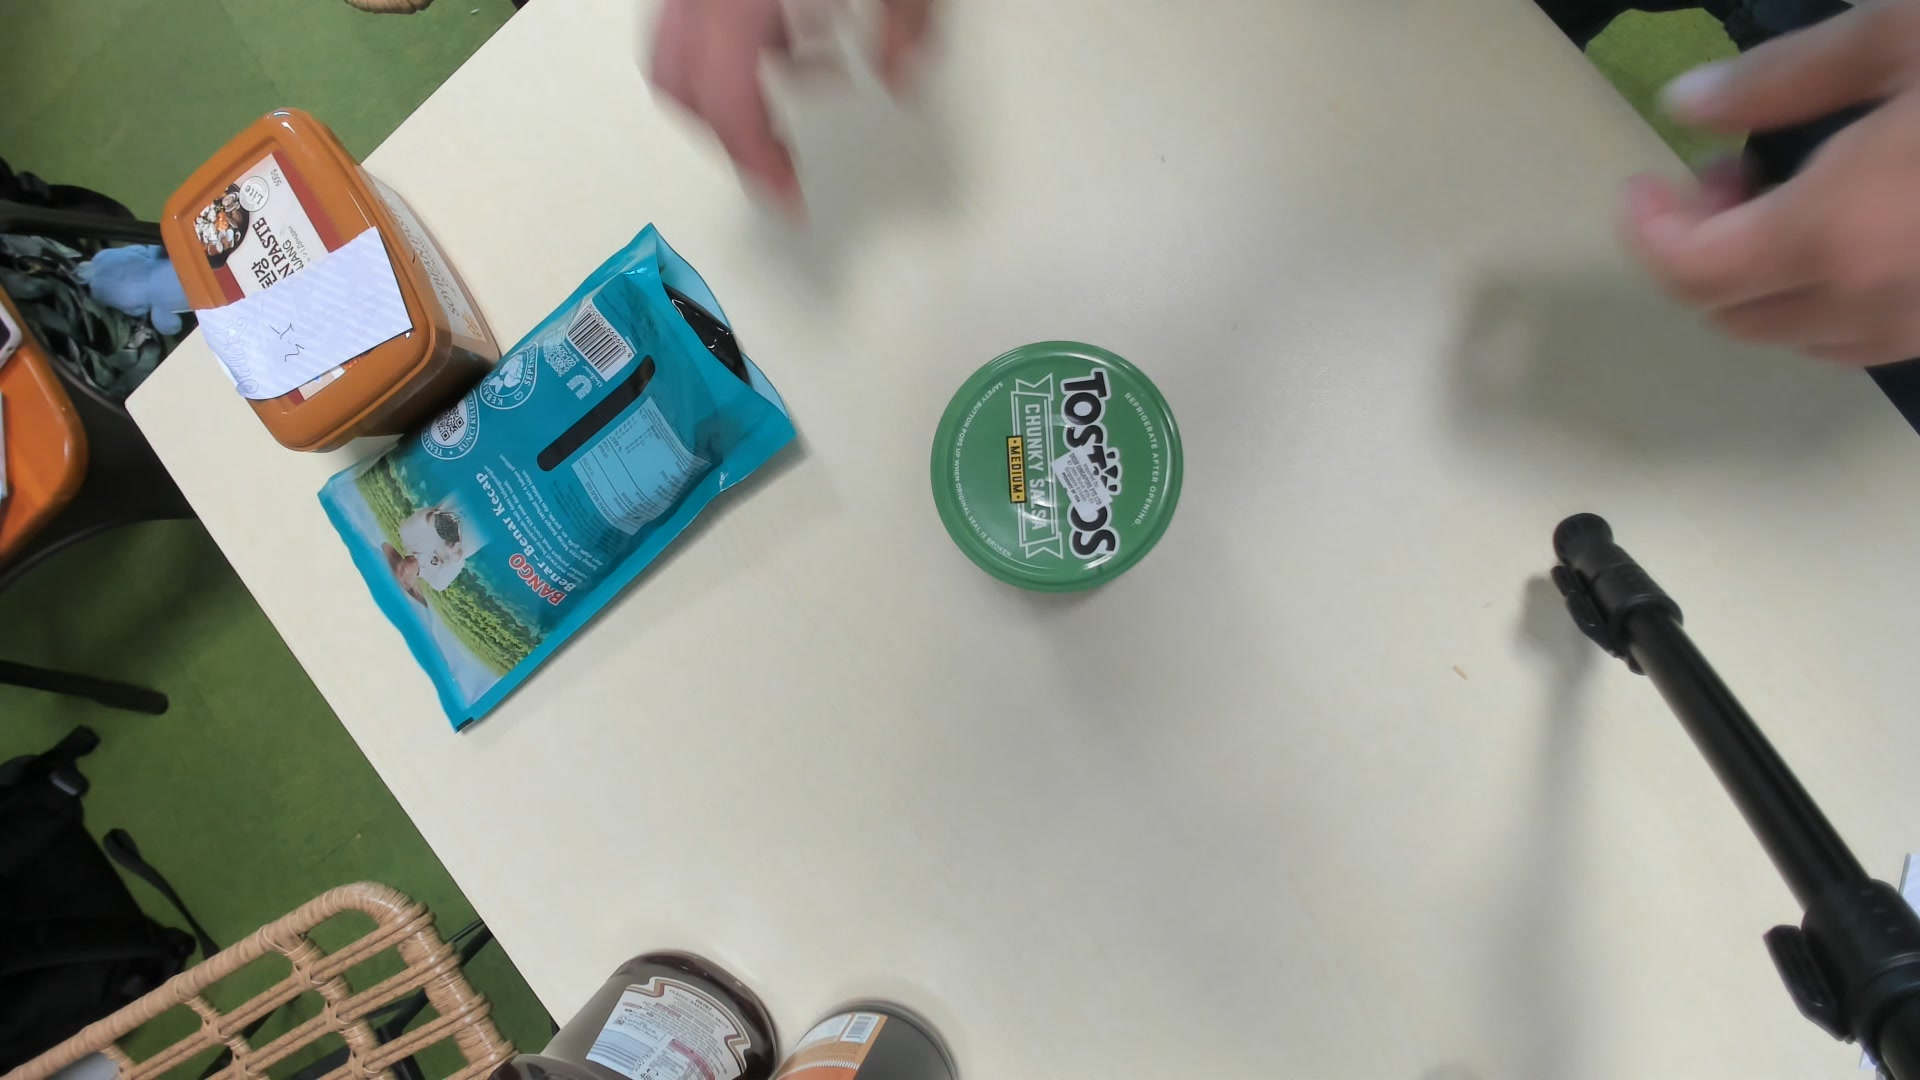OtherSauceDressing_400-499g_NonHalal_NonHealthy: (928, 338, 1182, 603)
